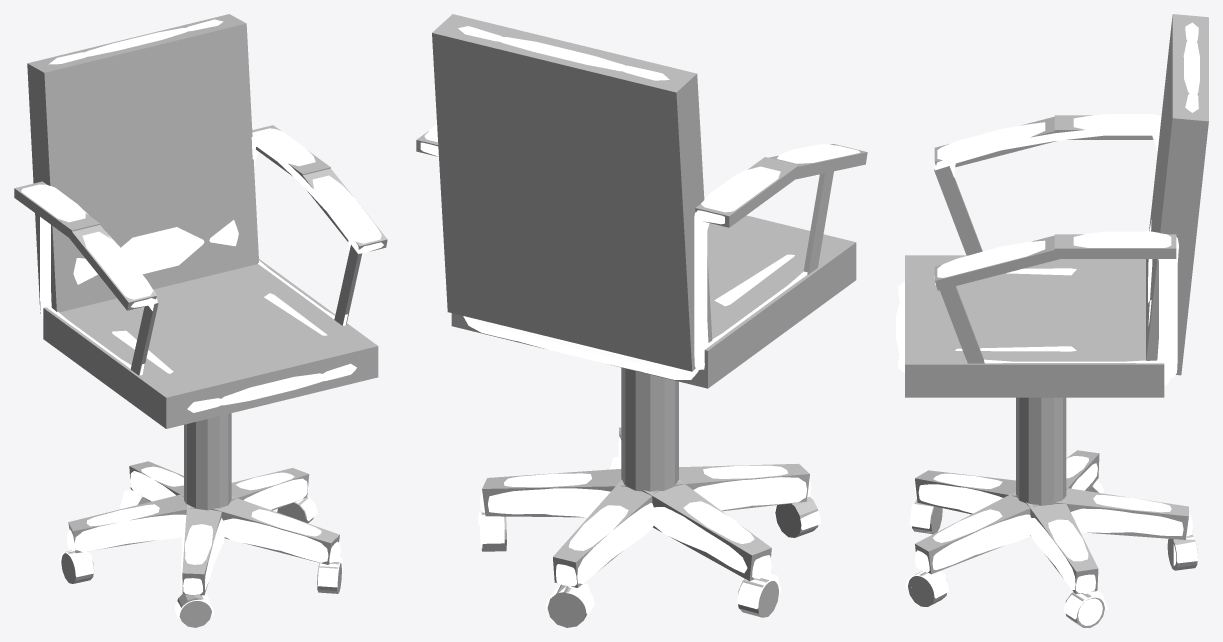
File: SM__OfficeChair.fbx
The picture shows the model from 3 angles, left to right: view 1: azimuth 30°, elevation 25°; view 2: azimuth 150°, elevation 25°; view 3: azimuth 270°, elevation 25°; orthographic projection. The views are drawn at different scales.
Visible parts, largest first — view 1: SM__OfficeChair_ConvexHulls, SM__OfficeChair; view 2: SM__OfficeChair_ConvexHulls, SM__OfficeChair; view 3: SM__OfficeChair_ConvexHulls, SM__OfficeChair.
Part boxes in pixels (left/top/right/bottom): SM__OfficeChair_ConvexHulls: left=14, top=14, right=387, bottom=627; SM__OfficeChair: left=21, top=19, right=383, bottom=617; SM__OfficeChair_ConvexHulls: left=416, top=14, right=867, bottom=627; SM__OfficeChair: left=420, top=26, right=860, bottom=614; SM__OfficeChair_ConvexHulls: left=905, top=14, right=1208, bottom=627; SM__OfficeChair: left=896, top=22, right=1199, bottom=625.
Size of the model in its own units: 60.29 by 59.76 by 107.
2 materials, 1 textured.
